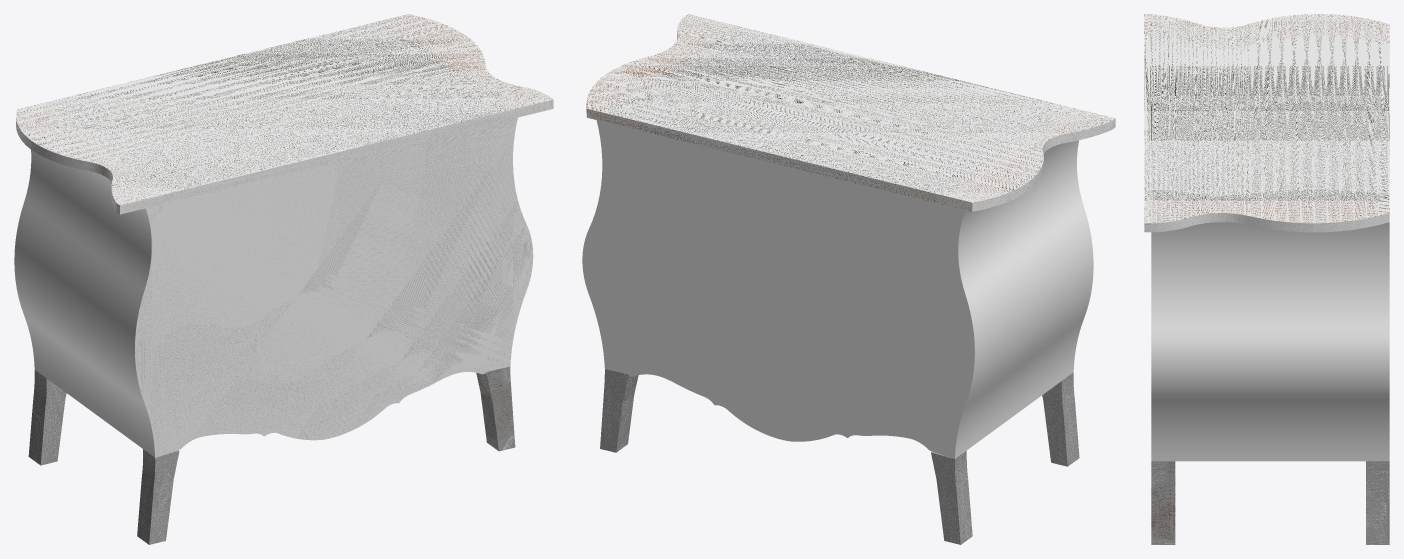
3 renders of one model, left to right at view 1: azimuth 30°, elevation 25°; view 2: azimuth 150°, elevation 25°; view 3: azimuth 270°, elevation 25°, orthographic.
Parts seen in each view (by area): view 1: mesh9_mesh9-geometry, mesh8_mesh8-geometry, mesh5_mesh5-geometry, mesh3_mesh3-geometry, mesh1_mesh1-geometry; view 2: mesh9_mesh9-geometry, mesh8_mesh8-geometry, mesh3_mesh3-geometry, mesh5_mesh5-geometry, mesh7_mesh7-geometry; view 3: mesh9_mesh9-geometry, mesh8_mesh8-geometry, mesh1_mesh1-geometry, mesh7_mesh7-geometry.
Part boxes in pixels (<box>): mesh9_mesh9-geometry: <box>14,117,533,457</box>; mesh8_mesh8-geometry: <box>16,14,553,214</box>; mesh5_mesh5-geometry: <box>137,449,179,544</box>; mesh3_mesh3-geometry: <box>28,370,66,465</box>; mesh1_mesh1-geometry: <box>476,366,515,451</box>; mesh9_mesh9-geometry: <box>582,120,1093,458</box>; mesh8_mesh8-geometry: <box>586,14,1115,211</box>; mesh3_mesh3-geometry: <box>931,451,972,544</box>; mesh5_mesh5-geometry: <box>1042,372,1079,466</box>; mesh7_mesh7-geometry: <box>600,369,638,452</box>; mesh9_mesh9-geometry: <box>1151,222,1389,461</box>; mesh8_mesh8-geometry: <box>1144,14,1389,232</box>; mesh1_mesh1-geometry: <box>1151,461,1175,544</box>; mesh7_mesh7-geometry: <box>1366,461,1389,544</box>.
Size of the model in its own units: 0.737 by 0.5686 by 0.3654.
